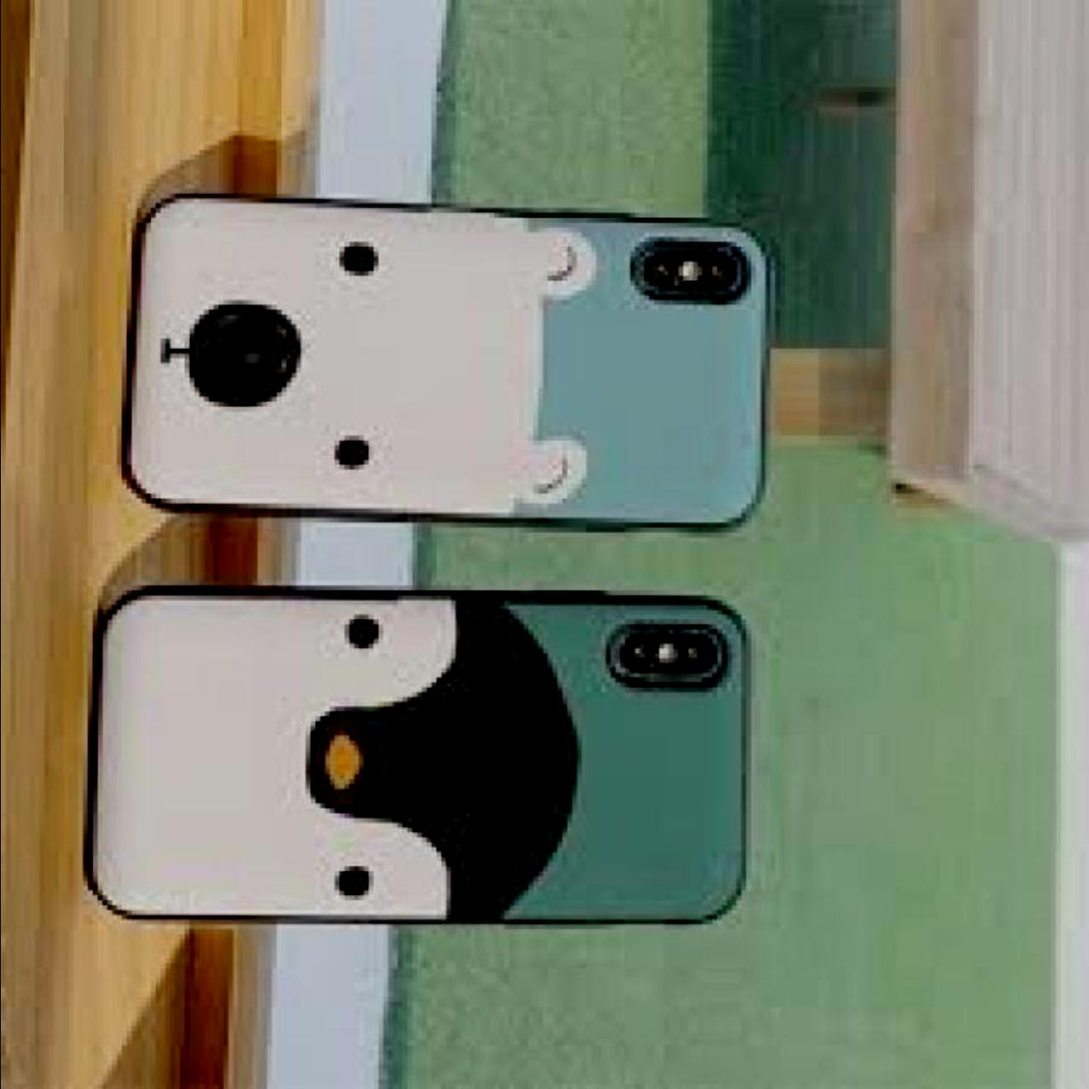phone: (77, 584, 780, 940), (116, 187, 778, 536)
